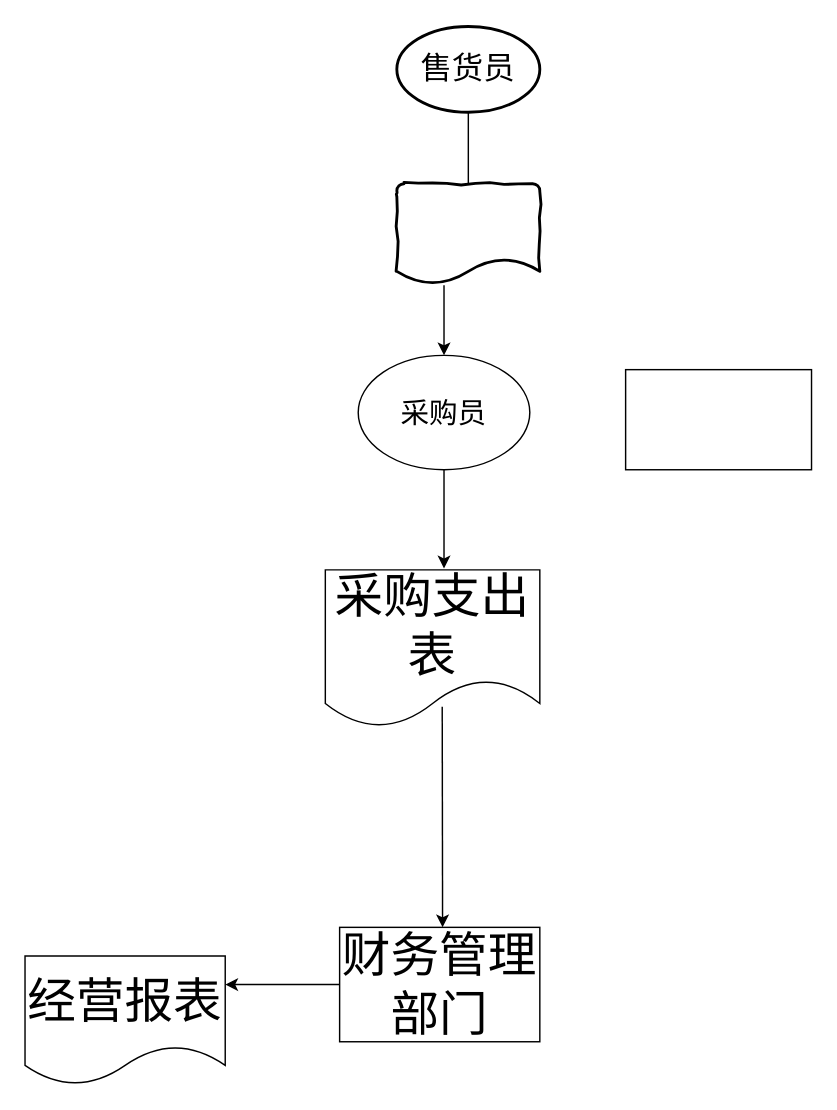
This 837x1110 diagram has some shape labels left out. The shapes that lost their labels are listed below. From the top down, each one's box as (x1, y1, x2, y2) in pixels, then its label:
(395, 182, 541, 285): 缺货通知单
(624, 368, 812, 470): 采购货物
